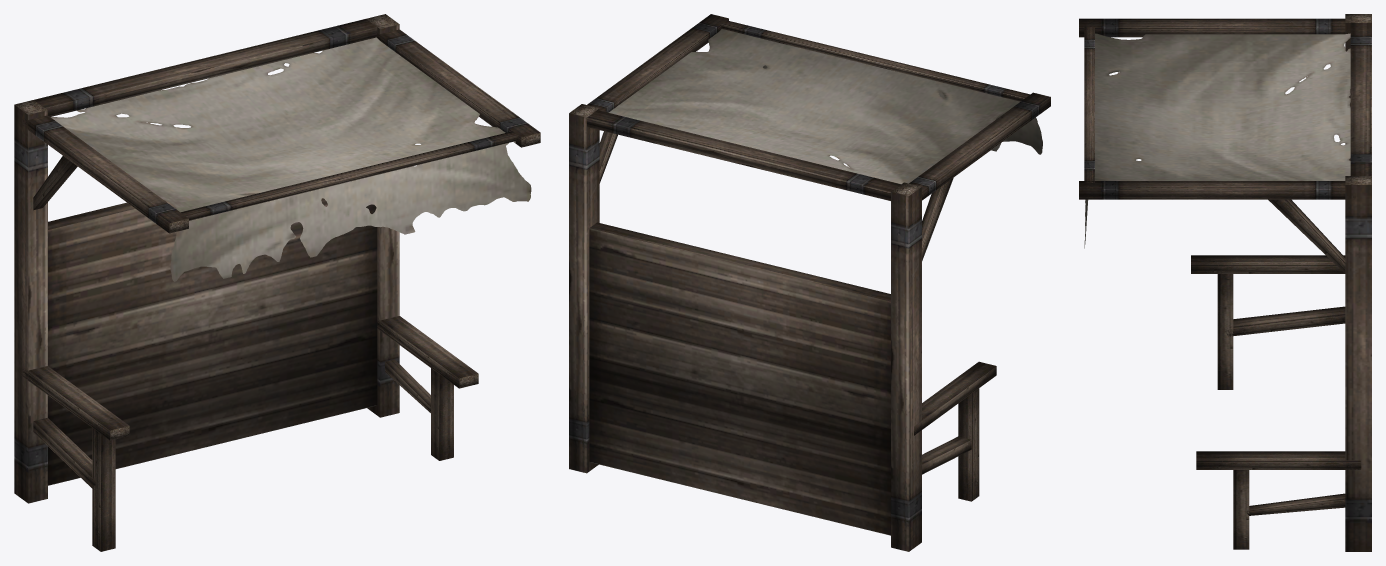
File: woodhouse.obj
3 renders of one model, left to right at view 1: azimuth 30°, elevation 25°; view 2: azimuth 150°, elevation 25°; view 3: azimuth 270°, elevation 25°, orthographic. The views are drawn at different scales.
Parts seen in each view (by area): view 1: bsth_nc_pj_003; view 2: bsth_nc_pj_003; view 3: bsth_nc_pj_003.
Part boxes in pixels (<box>): bsth_nc_pj_003: <box>14,14,540,551</box>; bsth_nc_pj_003: <box>569,14,1050,551</box>; bsth_nc_pj_003: <box>1079,14,1371,551</box>.
Bounding box in the file's own units: 0.76 × 0.76 × 0.55.
Materials: 1 (1 with a texture image).
